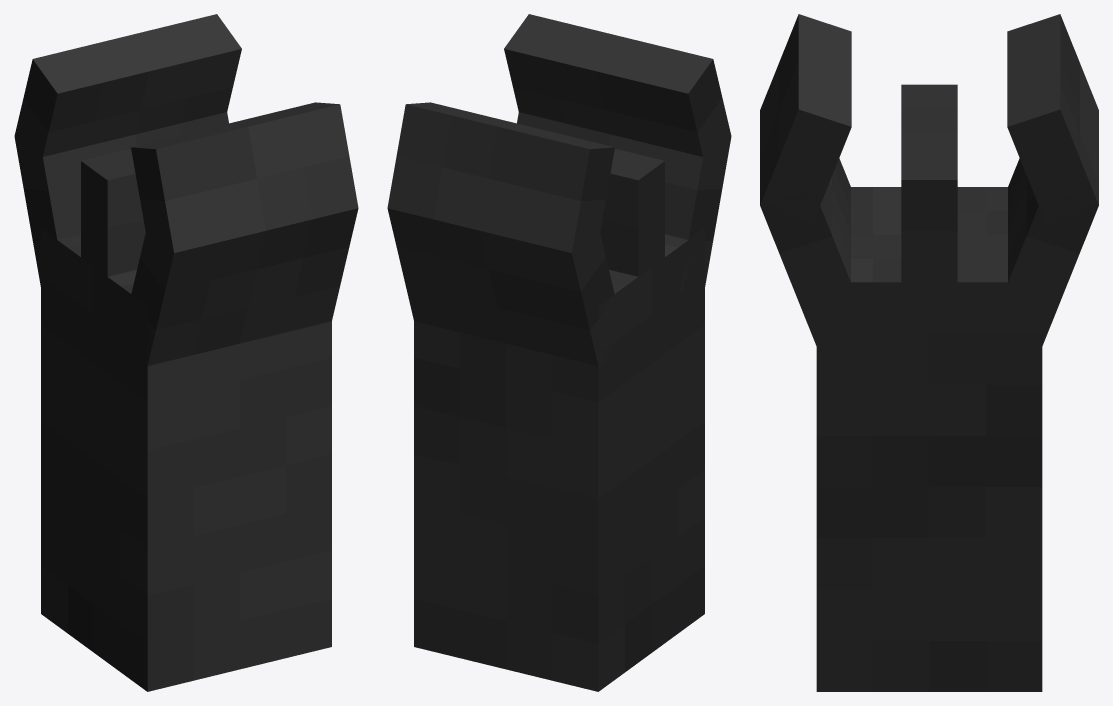
File: akm_is2.obj
The picture shows the model from 3 angles, left to right: view 1: azimuth 30°, elevation 25°; view 2: azimuth 150°, elevation 25°; view 3: azimuth 270°, elevation 25°; orthographic projection. The views are drawn at different scales.
Visible parts, largest first — view 1: Shape1, Shape5, Shape3, Shape4, Shape2, Shape6; view 2: Shape1, Shape4, Shape2, Shape5, Shape3, Shape6; view 3: Shape1, Shape4, Shape5, Shape6, Shape2, Shape3.
Boxes of the visible parts, x1,y1,x2,y2 form: Shape1: [41, 228, 331, 691]; Shape5: [131, 102, 358, 252]; Shape3: [126, 208, 358, 365]; Shape4: [14, 14, 241, 169]; Shape2: [14, 112, 228, 293]; Shape6: [81, 148, 145, 276]; Shape1: [414, 228, 704, 691]; Shape4: [387, 102, 614, 252]; Shape2: [387, 208, 617, 368]; Shape5: [504, 14, 731, 158]; Shape3: [517, 112, 731, 293]; Shape6: [600, 148, 664, 276]; Shape1: [816, 187, 1042, 691]; Shape4: [1007, 14, 1098, 222]; Shape5: [760, 14, 851, 222]; Shape6: [901, 84, 957, 282]; Shape2: [989, 158, 1098, 345]; Shape3: [760, 158, 869, 345].
Bounding box in the file's own units: 0.25 × 0.7112 × 0.375.
